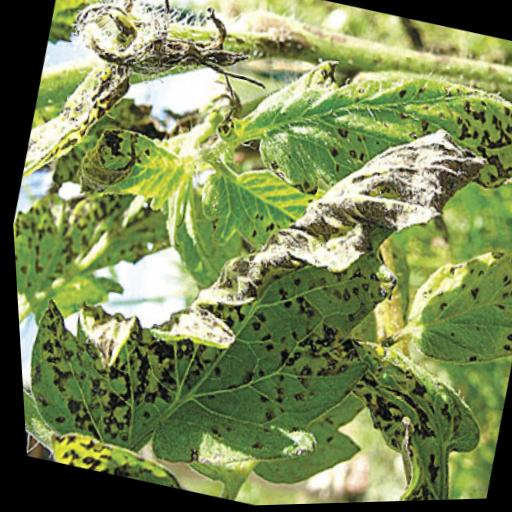Septoria: (2, 40, 509, 512), (222, 25, 512, 251), (287, 329, 495, 506), (8, 168, 181, 357), (387, 208, 512, 387)
